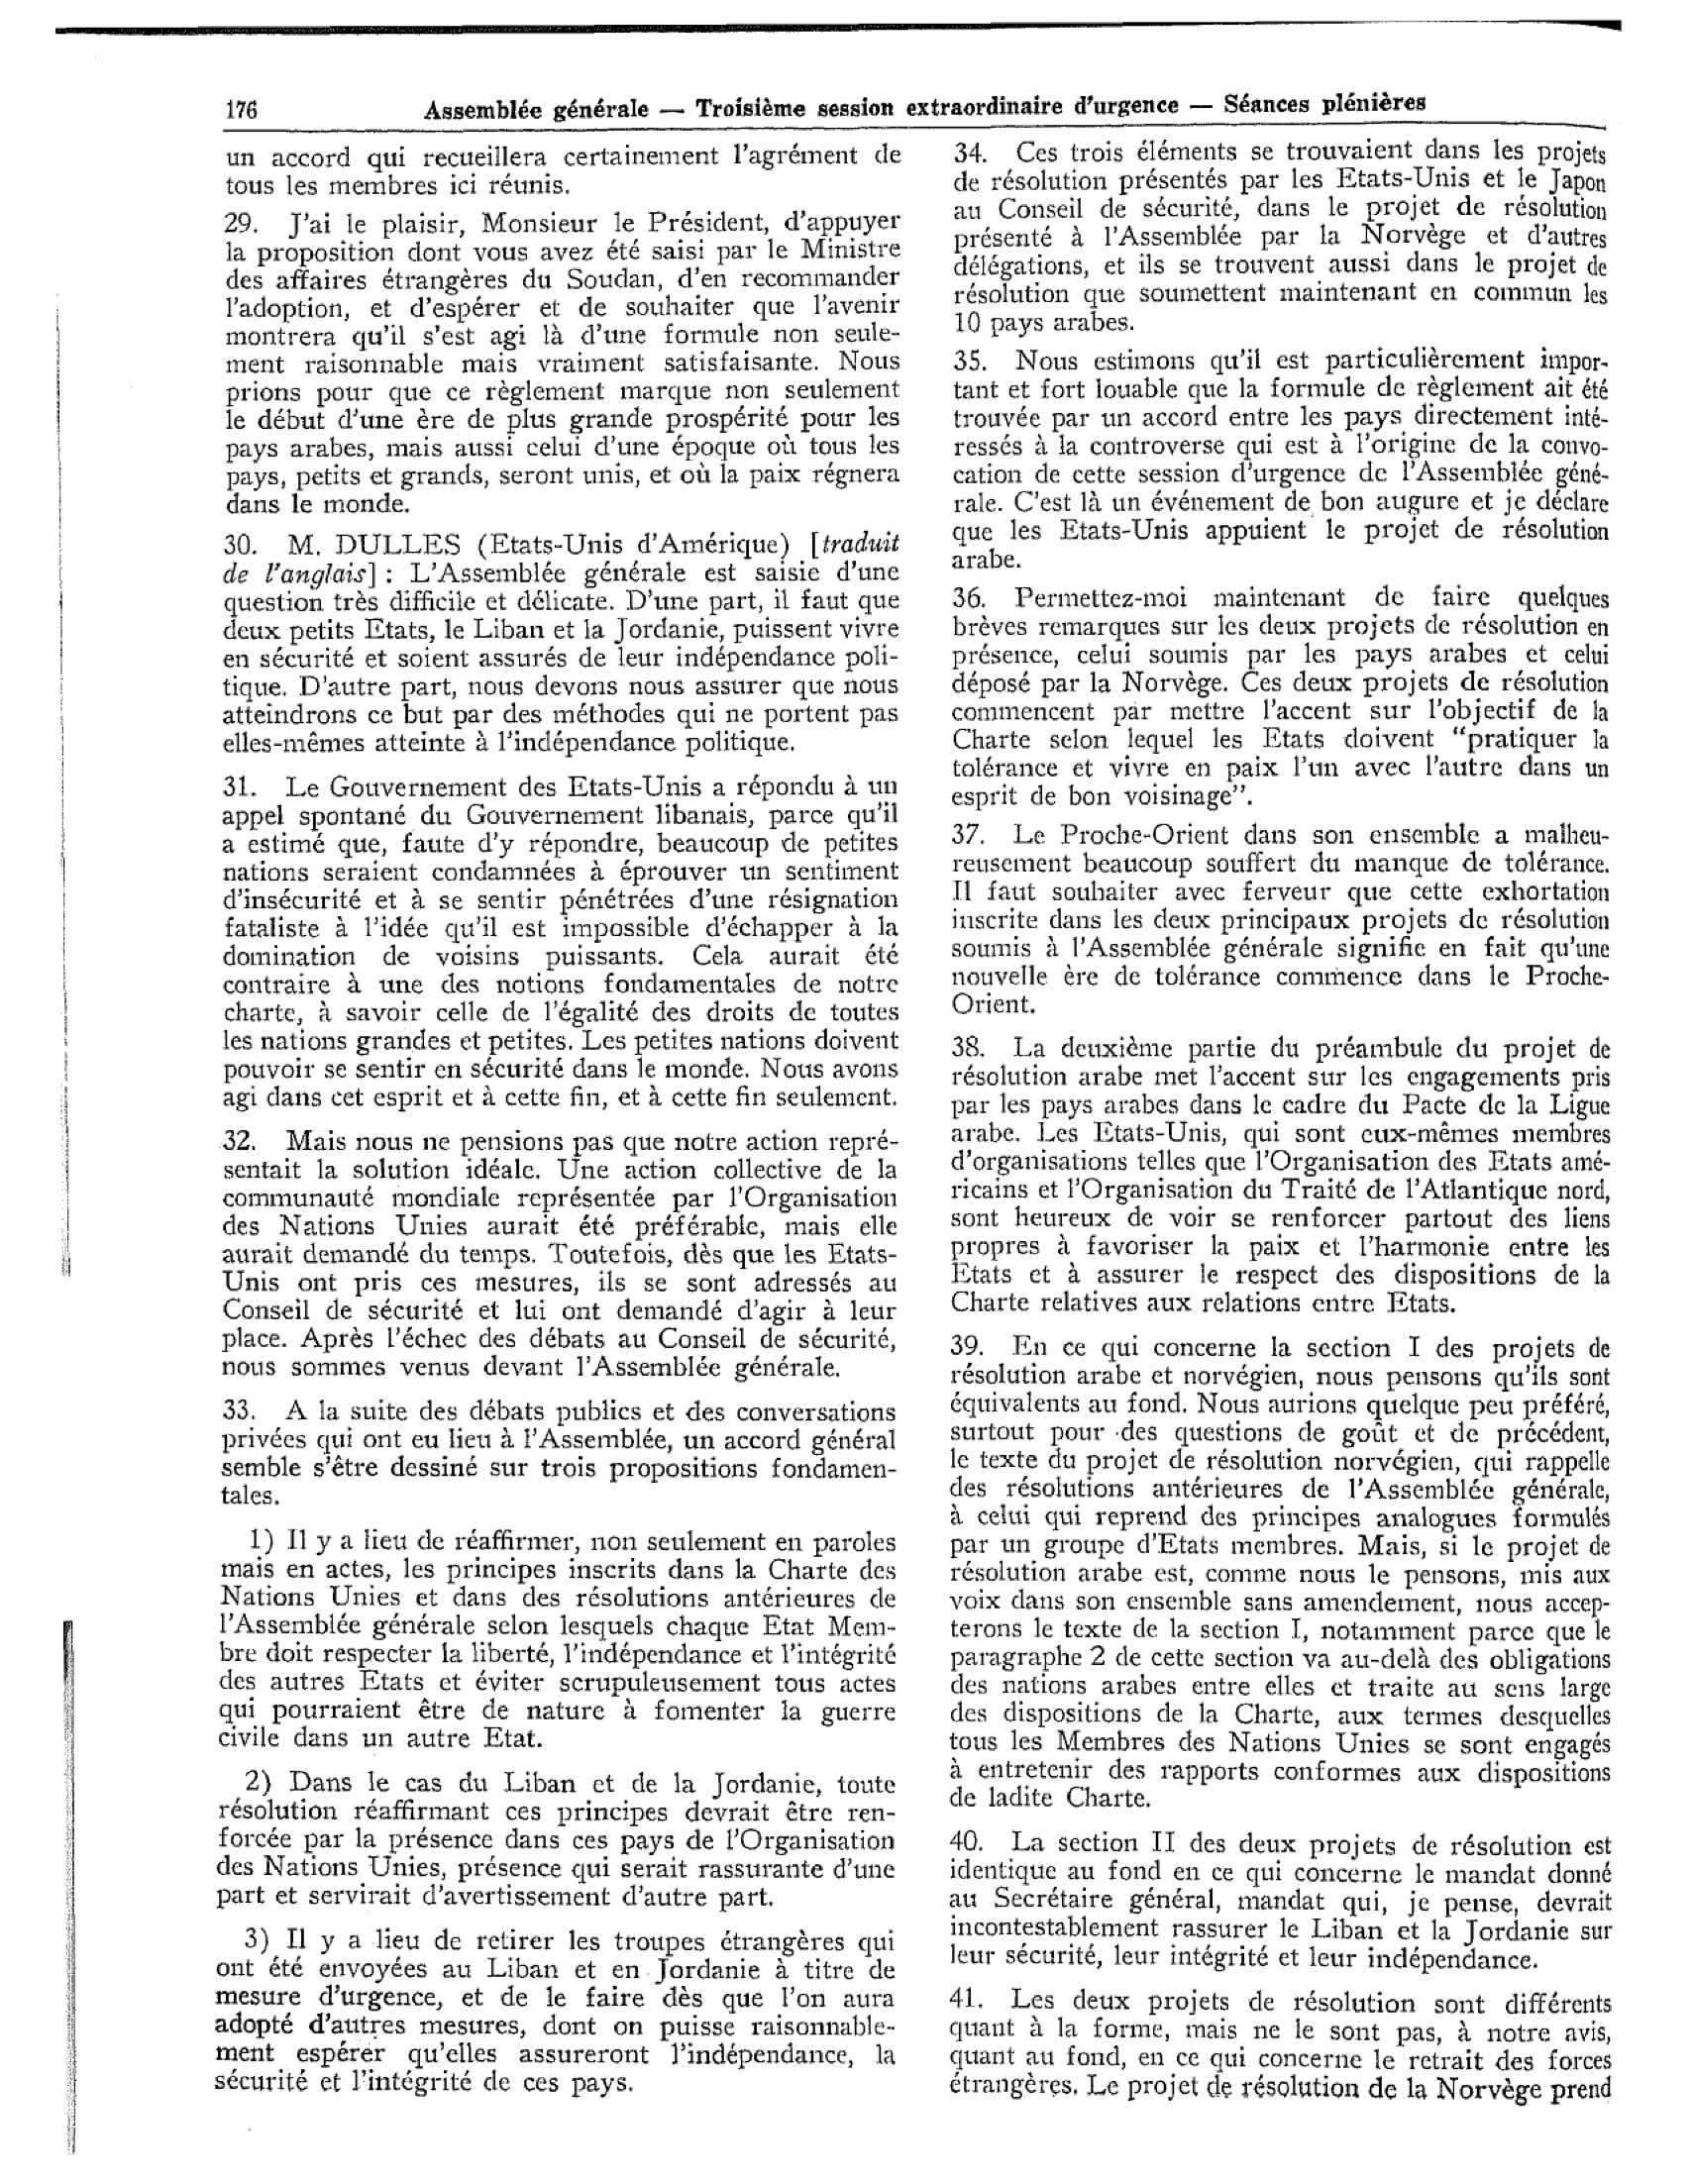MainZone-Continued: (216, 138, 913, 204)
MainZone-ListItem: (941, 1328, 1622, 1819), (214, 768, 908, 1115), (214, 202, 911, 521), (943, 1030, 1622, 1321), (213, 1120, 908, 1383), (211, 1519, 906, 1755), (213, 525, 908, 757), (945, 580, 1618, 814), (945, 342, 1617, 574), (945, 129, 1615, 339), (943, 815, 1620, 1019), (207, 1920, 904, 2104), (209, 1760, 906, 1913), (943, 1822, 1622, 1975), (941, 1982, 1625, 2111), (211, 1392, 906, 1510)
StampZone: (413, 83, 1429, 124)
TitlePageZone: (220, 90, 262, 128)
